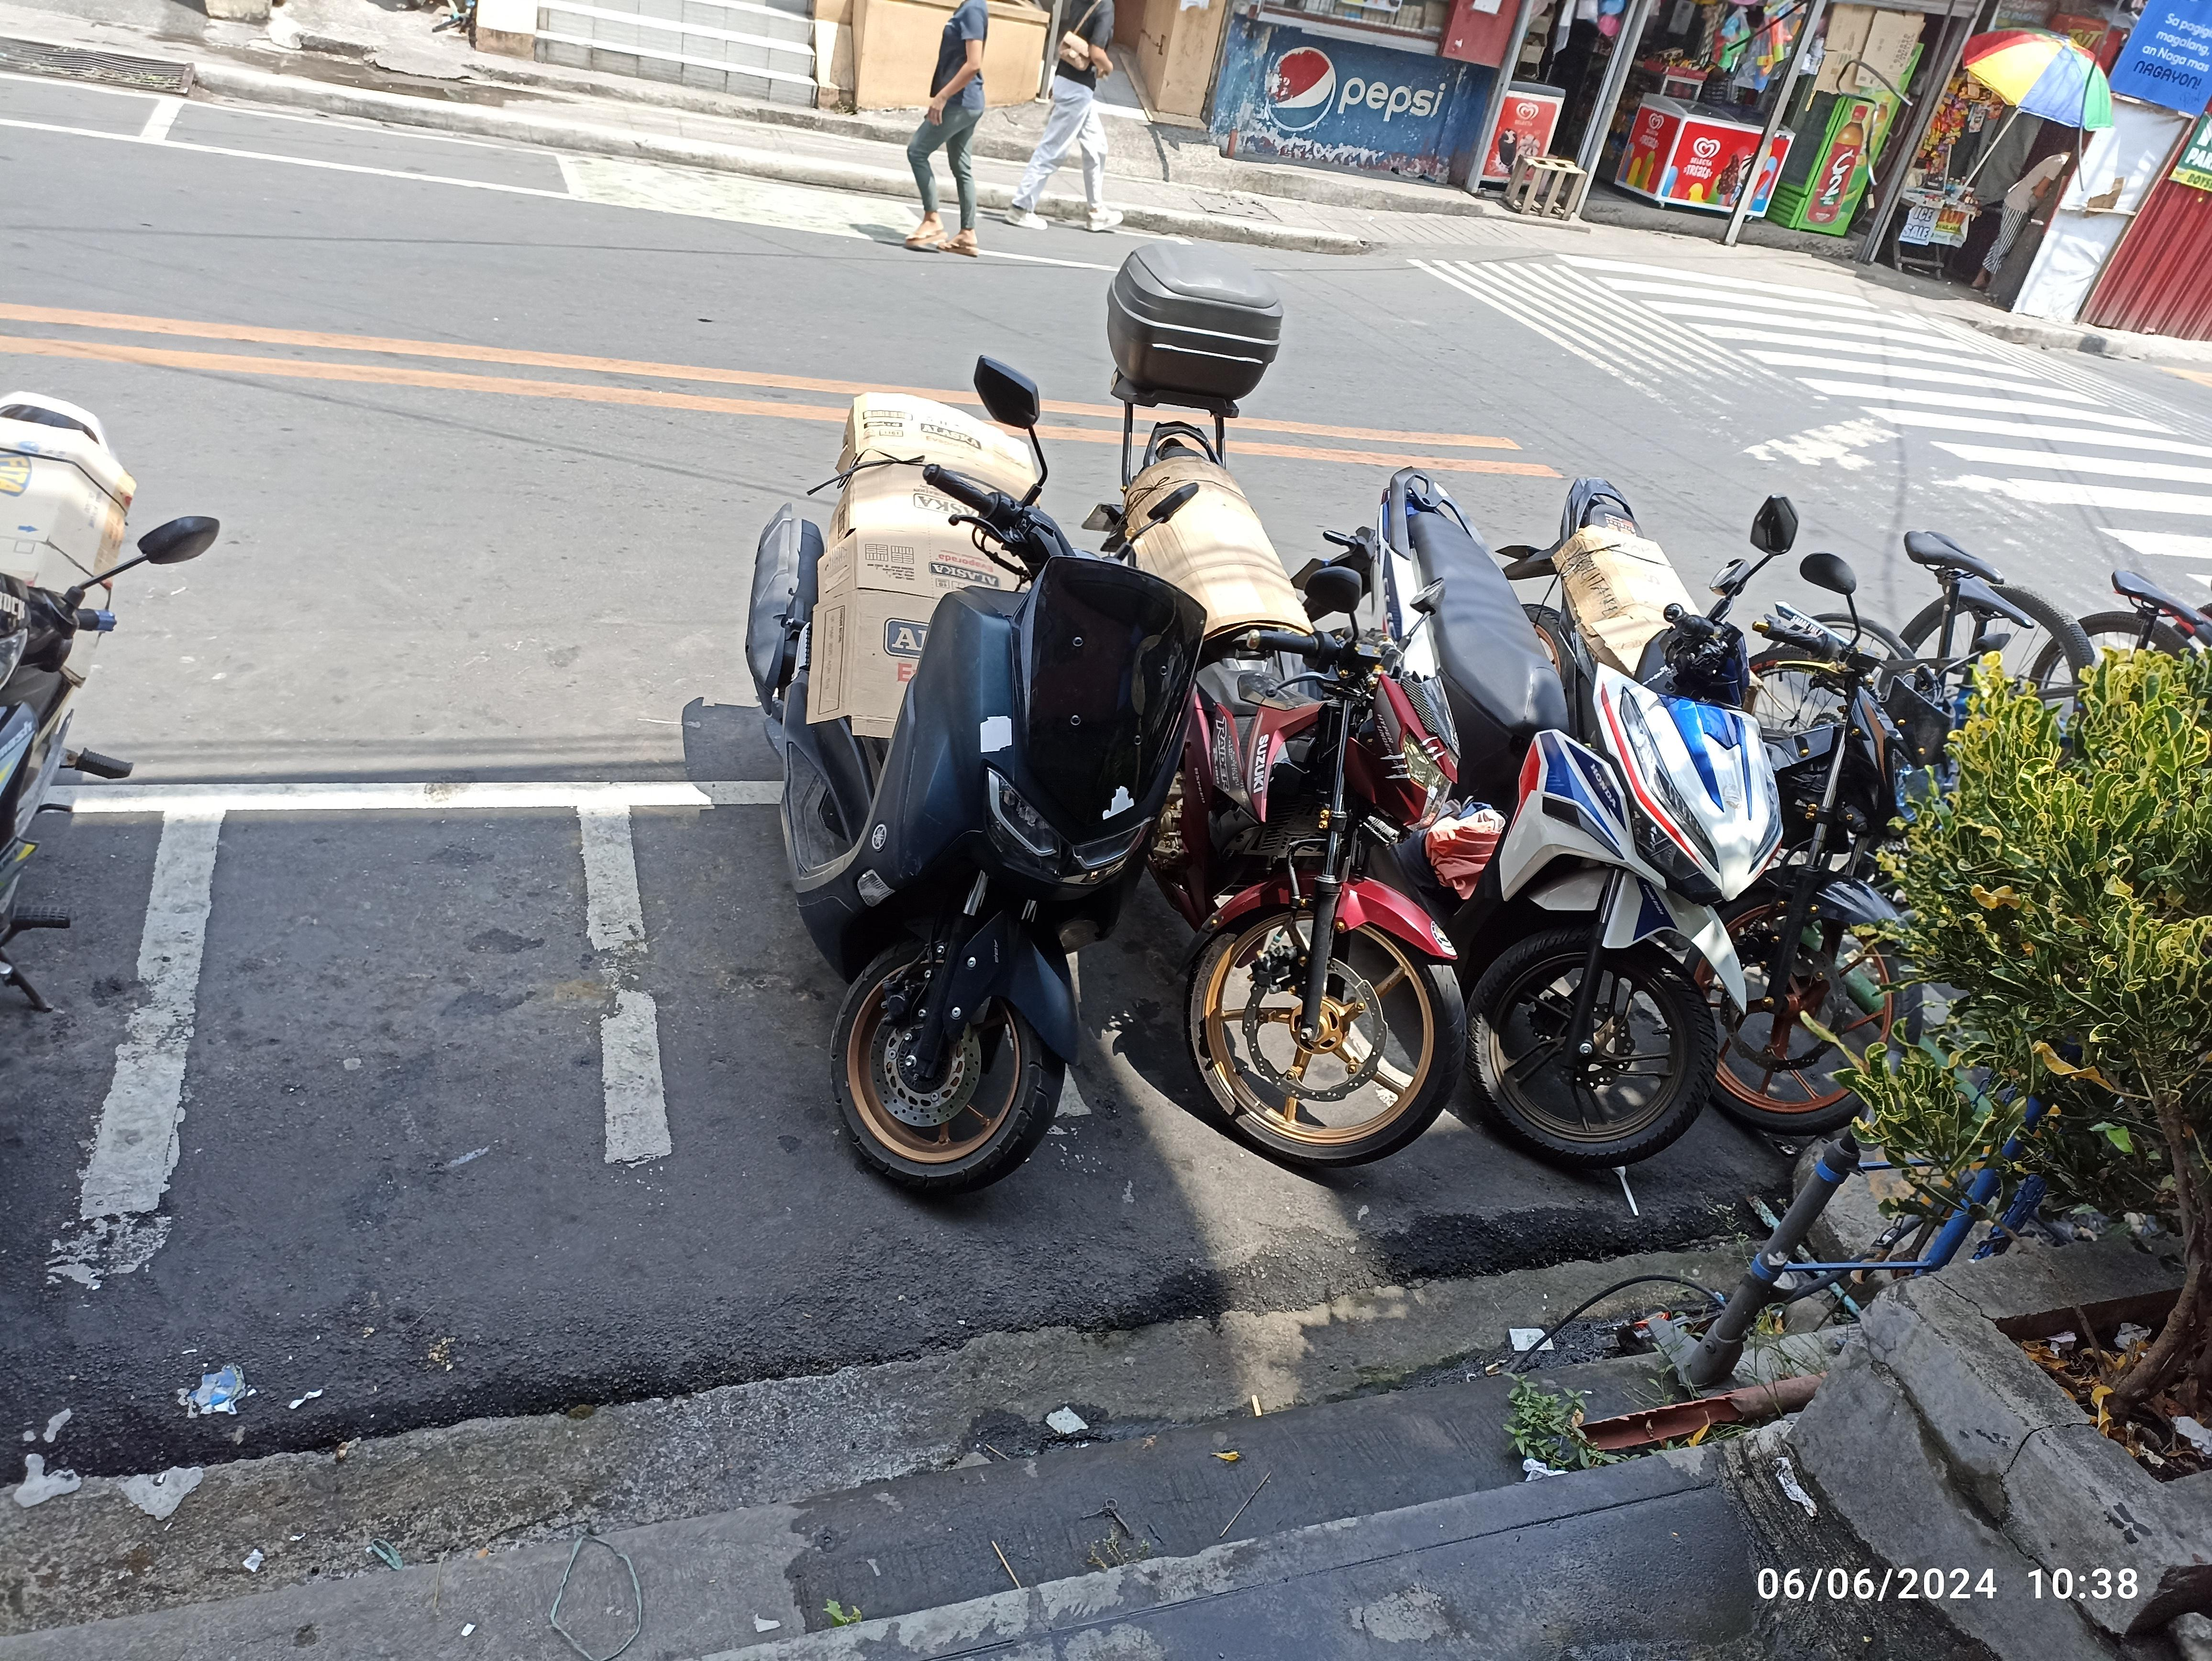occupied: (570, 766, 1113, 1206)
vacant: (77, 782, 682, 1254), (131, 89, 574, 204)
